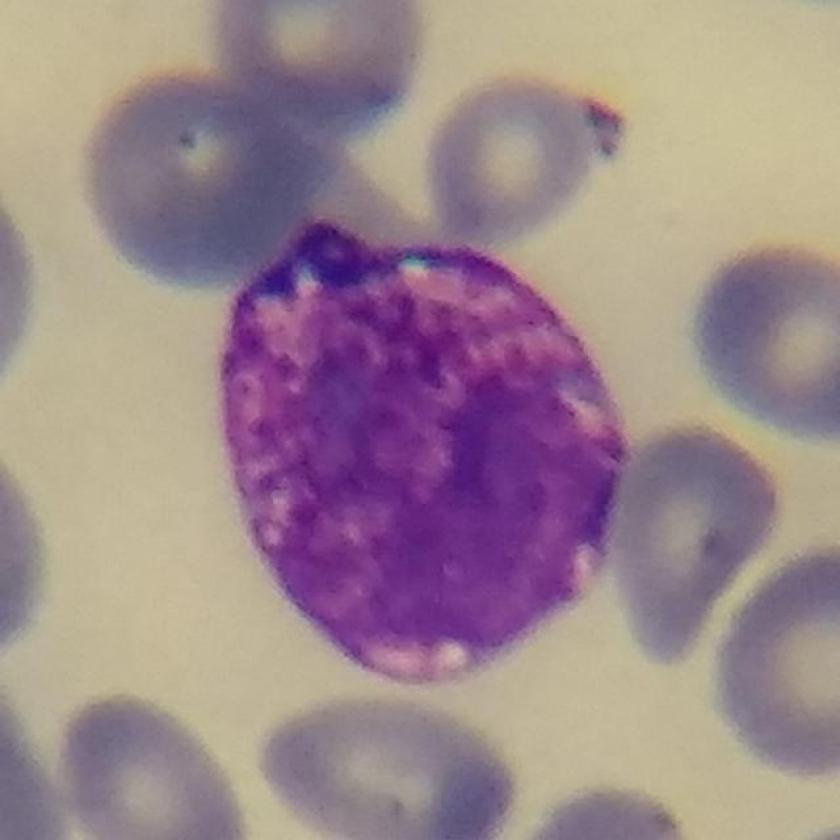basophil: (205, 221, 633, 681)
